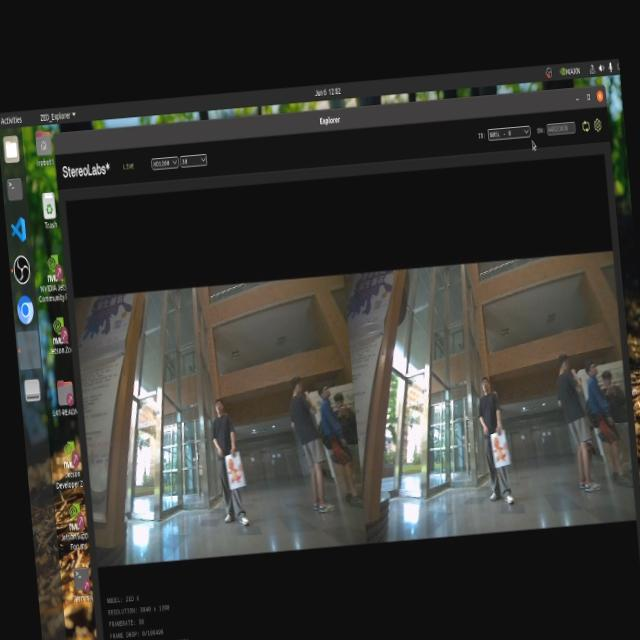red: (487, 434, 513, 470), (220, 458, 246, 492)
